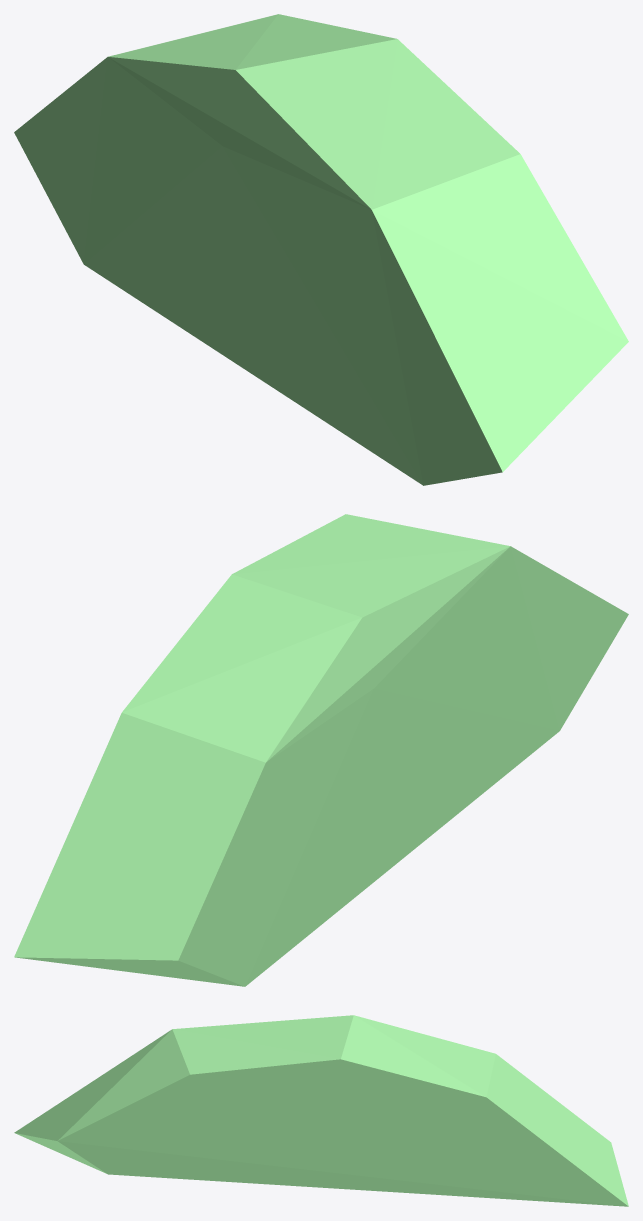
File: linkhou_LR4_R560_link7_respondable_coll_27.dae
The picture shows the model from 3 angles, top to bottom: view 1: azimuth 30°, elevation 25°; view 2: azimuth 150°, elevation 25°; view 3: azimuth 270°, elevation 25°; orthographic projection. The views are drawn at different scales.
Parts seen in each view (by area): view 1: Node_00000209DB3AA780; view 2: Node_00000209DB3AA780; view 3: Node_00000209DB3AA780.
Boxes of the visible parts, x1=… form: Node_00000209DB3AA780: x1=14, y1=14, x2=628, y2=485; Node_00000209DB3AA780: x1=14, y1=514, x2=628, y2=986; Node_00000209DB3AA780: x1=14, y1=1015, x2=628, y2=1206.
Size of the model in its own units: 0.00601 by 0.0103 by 0.0318.
